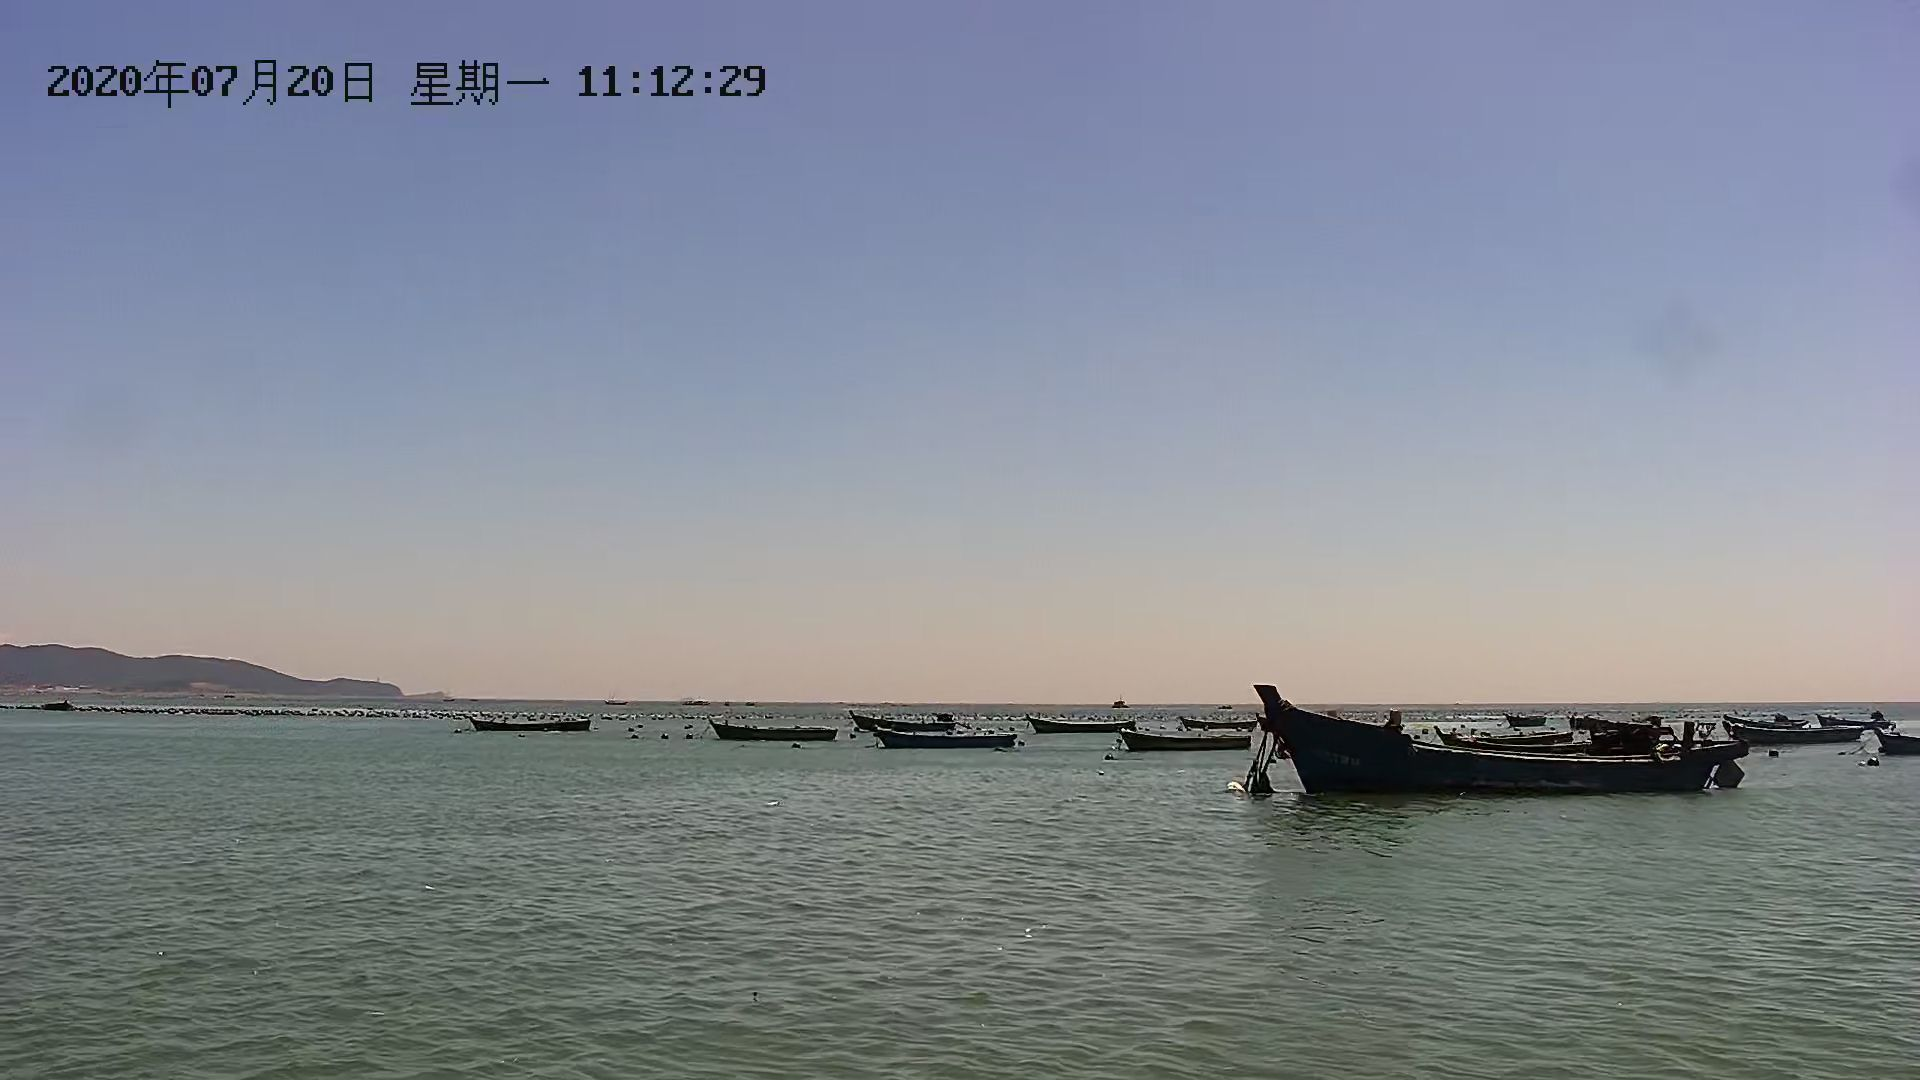boat: (1254, 691, 1754, 800), (1737, 708, 1917, 754), (1101, 720, 1258, 752), (707, 717, 847, 746), (881, 731, 1018, 757), (464, 713, 604, 735), (1022, 709, 1135, 735)
rock: (1, 645, 454, 707)
